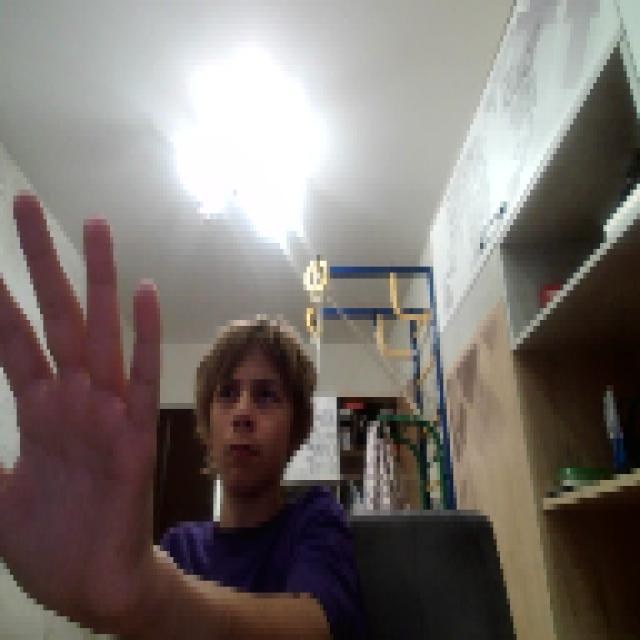hand: (0, 184, 157, 622)
